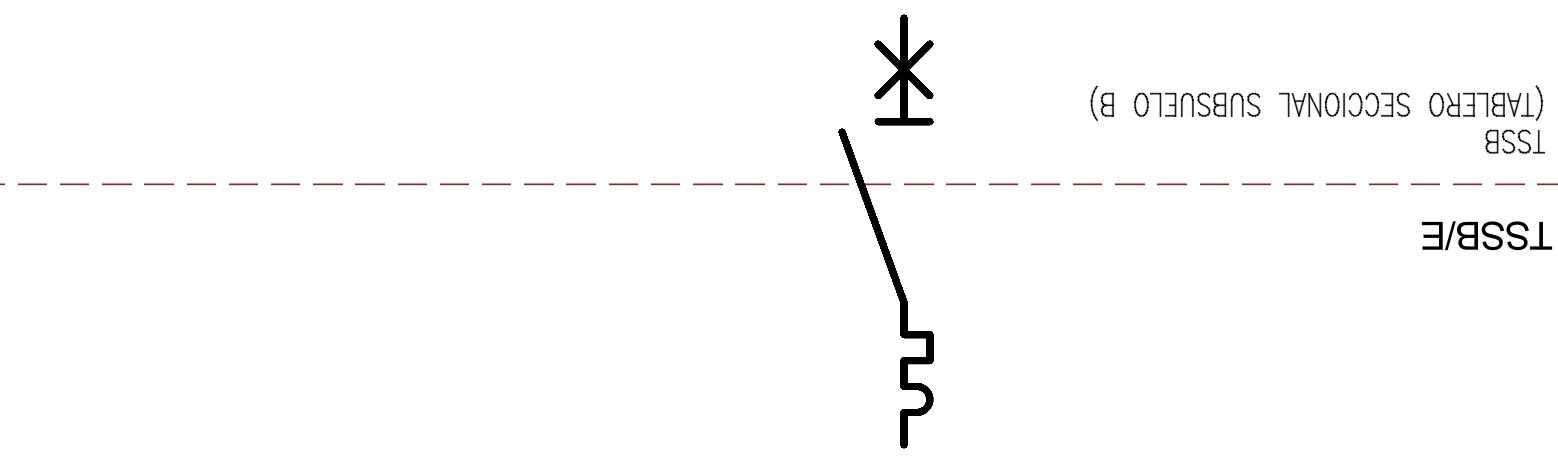interruptor_termomagnetico: (831, 7, 941, 456)
